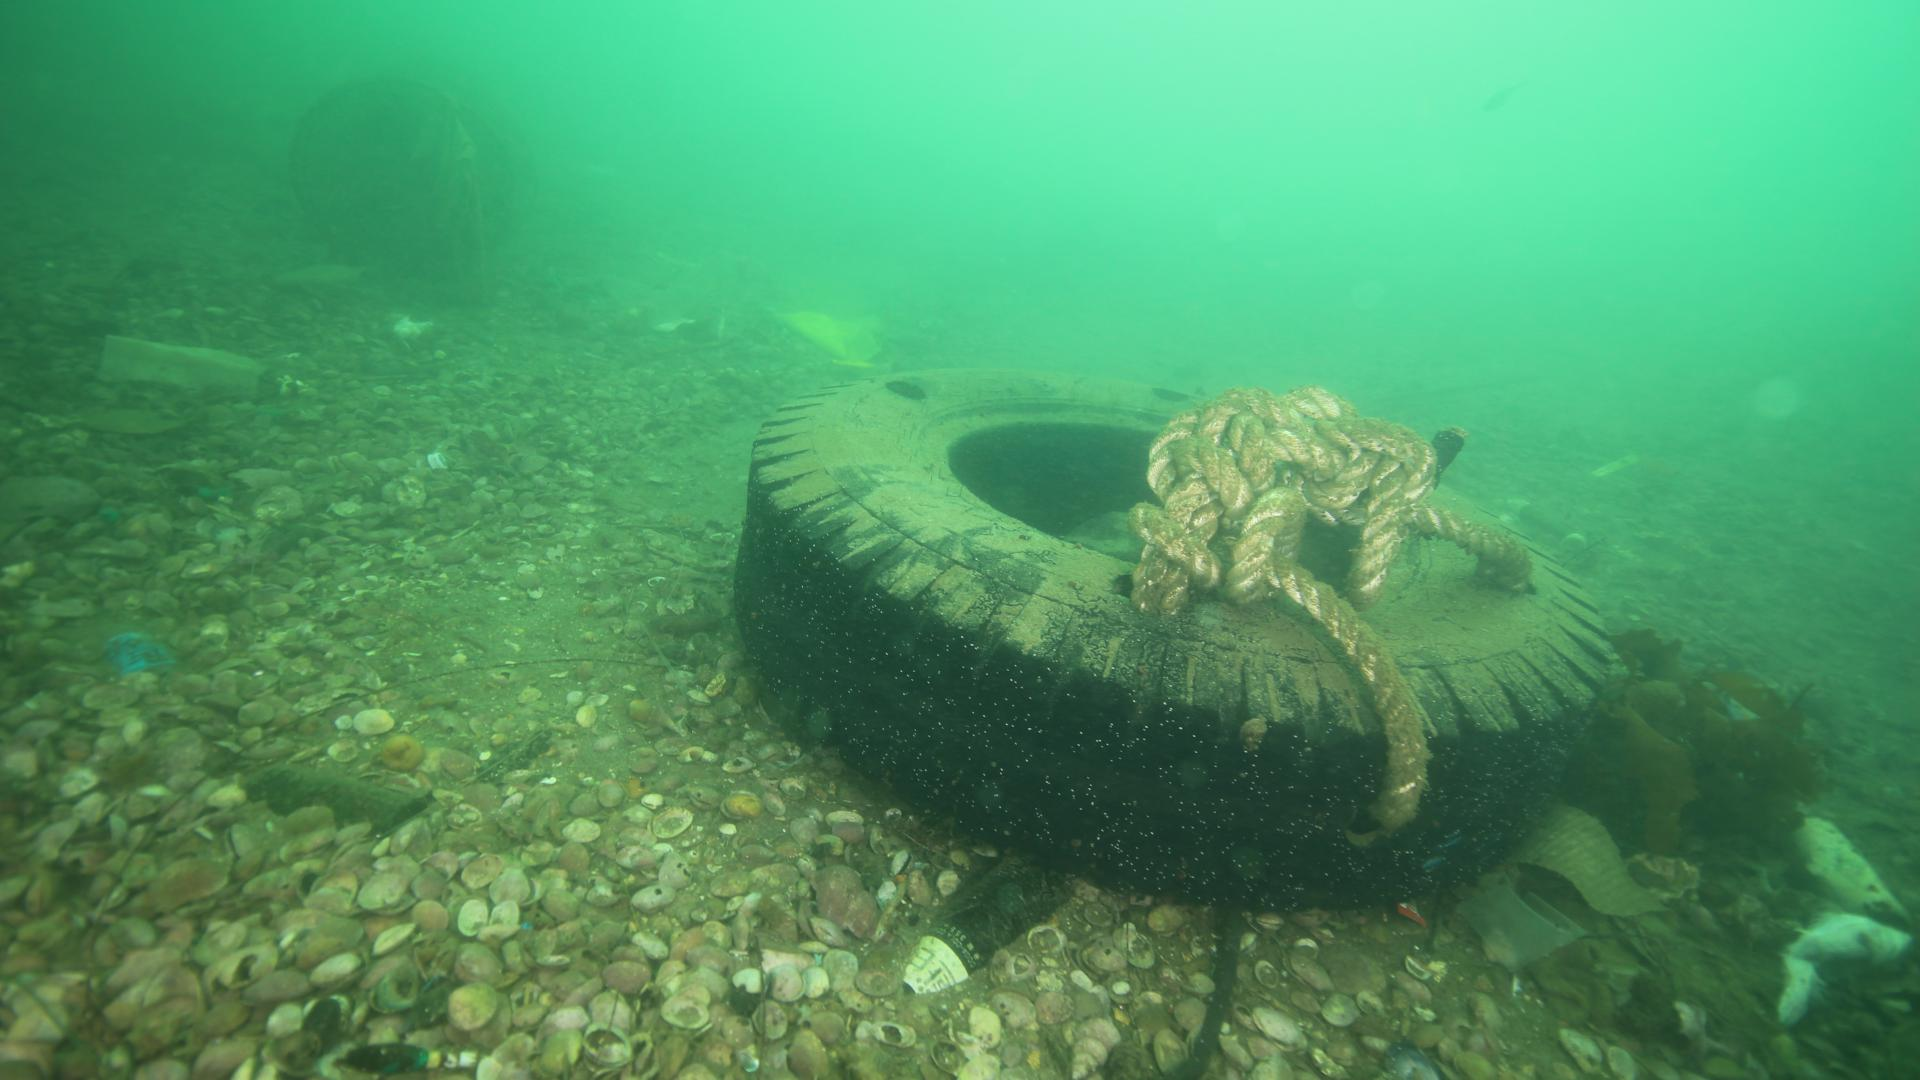bundle of ropes: (1127, 382, 1535, 833)
tire: (731, 364, 1619, 911)
